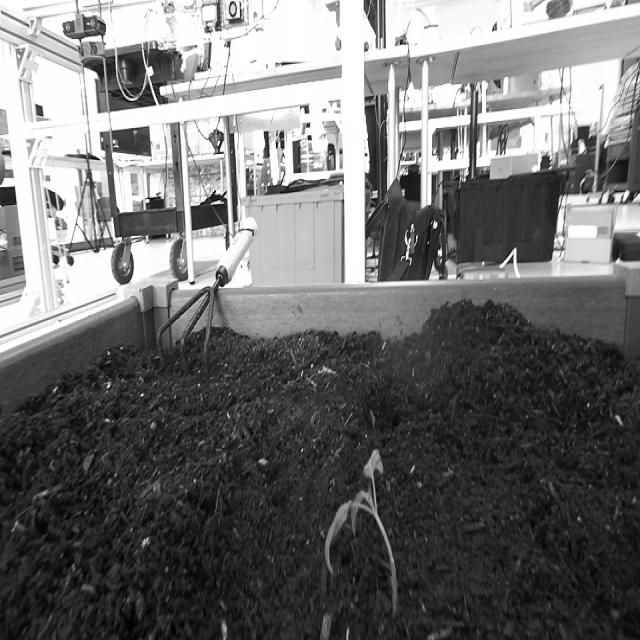Healthy: (322, 441, 407, 626)
